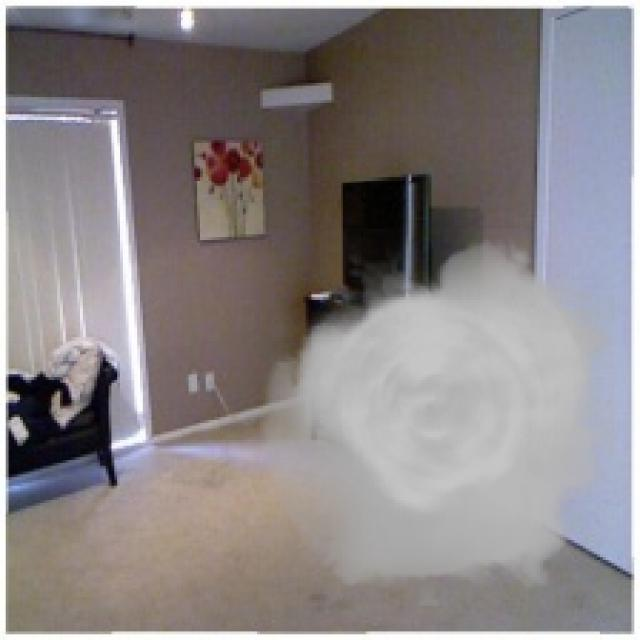Smoke: (260, 228, 617, 606)
